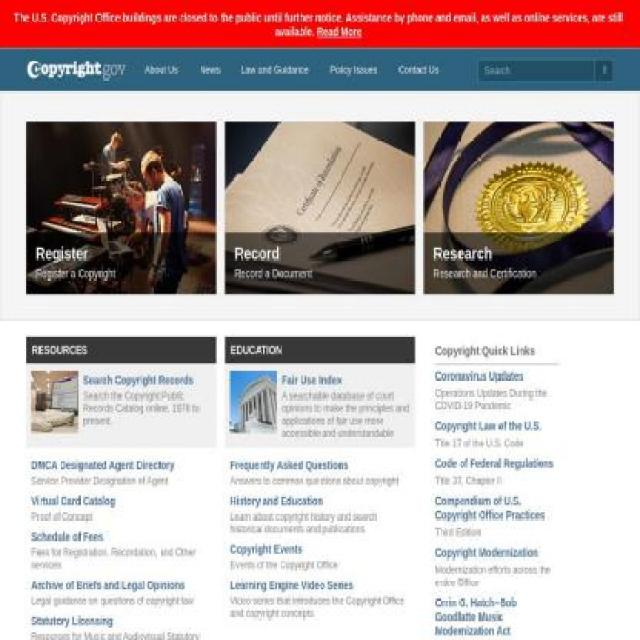button: (224, 121, 416, 294), (26, 121, 217, 294), (423, 121, 614, 294), (435, 596, 559, 638), (230, 49, 319, 91), (435, 493, 559, 522), (318, 49, 388, 91), (388, 49, 449, 91), (134, 49, 189, 91), (435, 368, 559, 384), (435, 418, 559, 434), (435, 455, 559, 471), (435, 545, 559, 560), (188, 49, 230, 91)
field: (477, 58, 595, 82)
